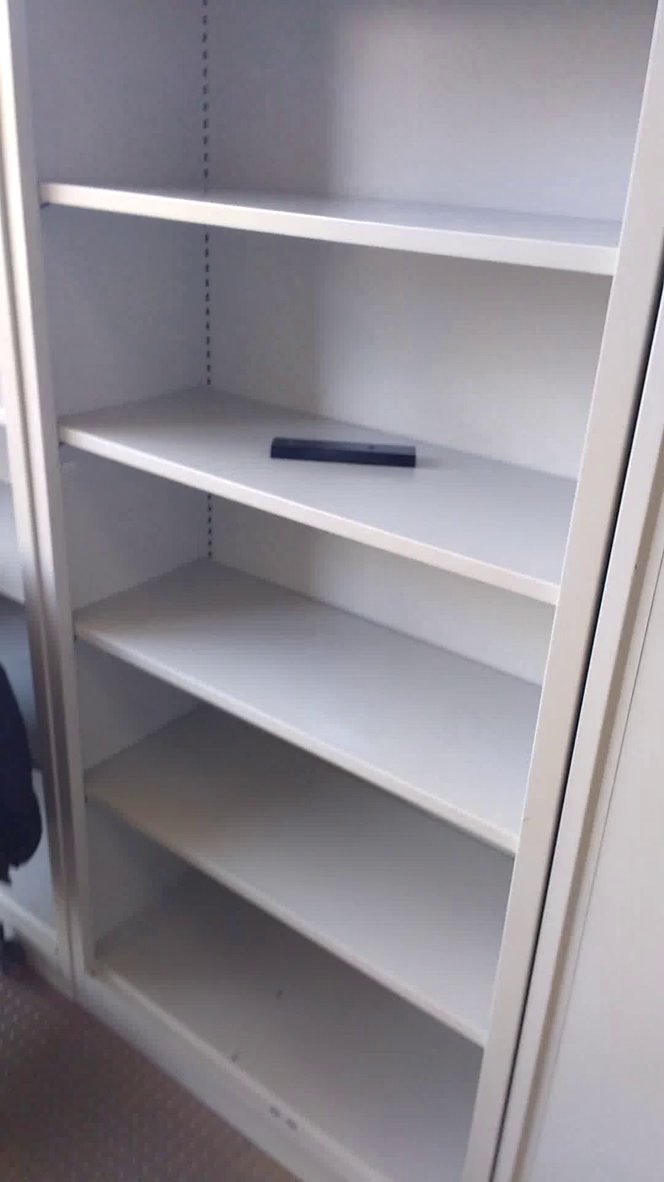remote: (259, 426, 435, 485)
